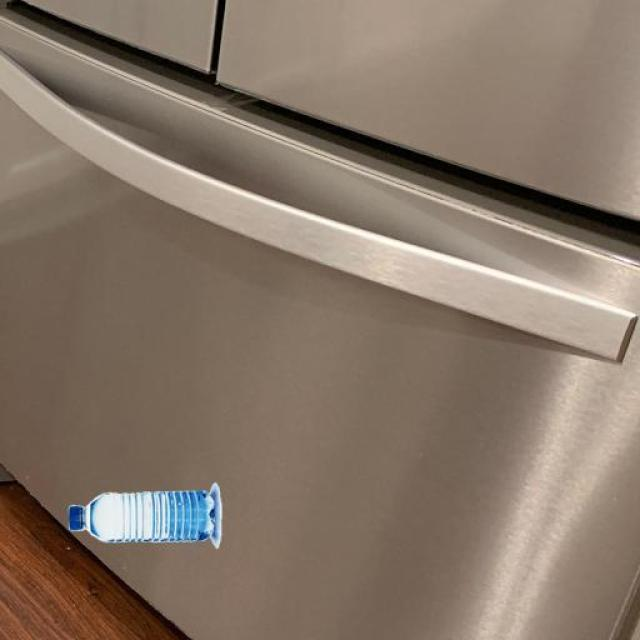bottle: (60, 461, 231, 559)
